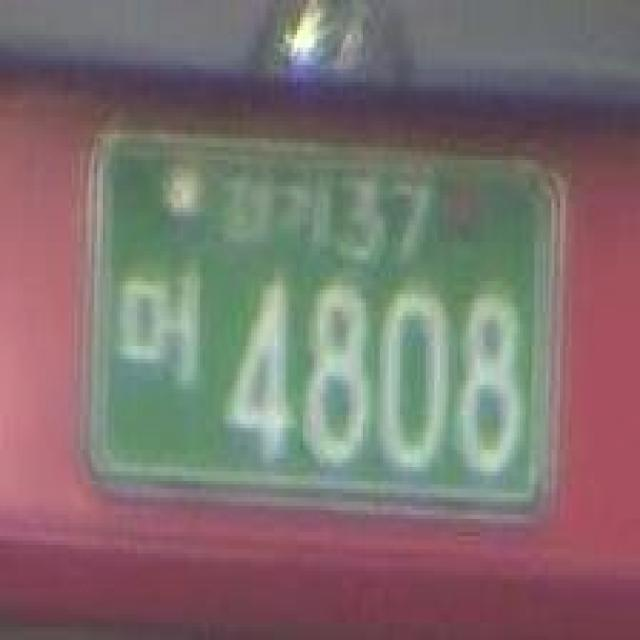illegal_plate: (67, 115, 570, 542)
